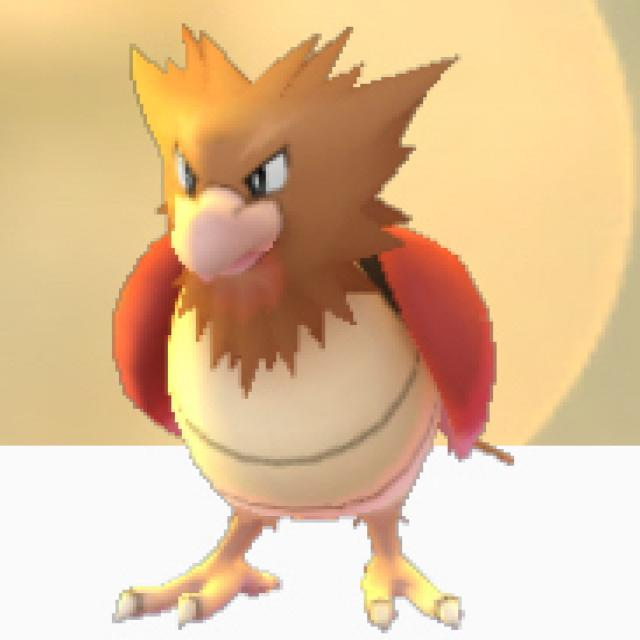Spearow: (119, 36, 493, 622)
